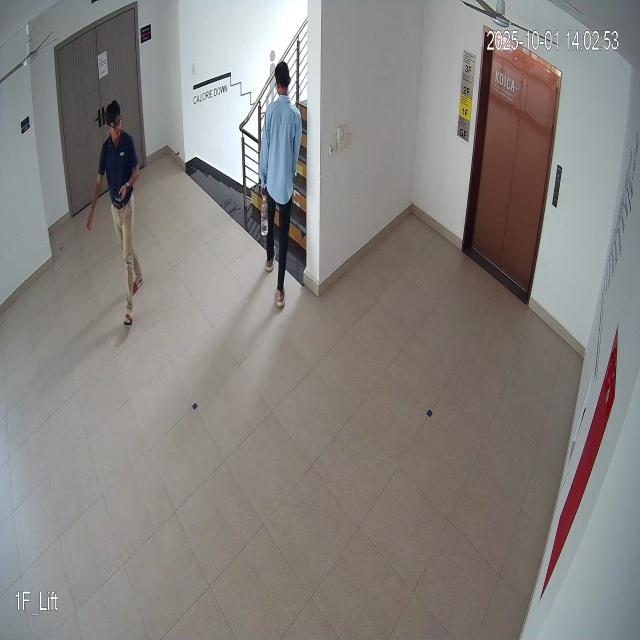face: (103, 99, 127, 144)
